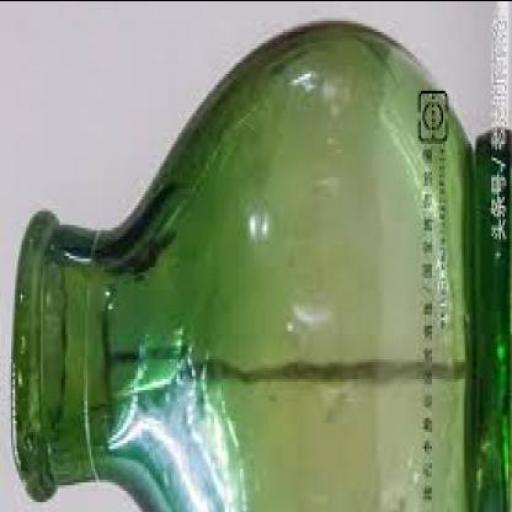glass: (11, 22, 512, 511)
